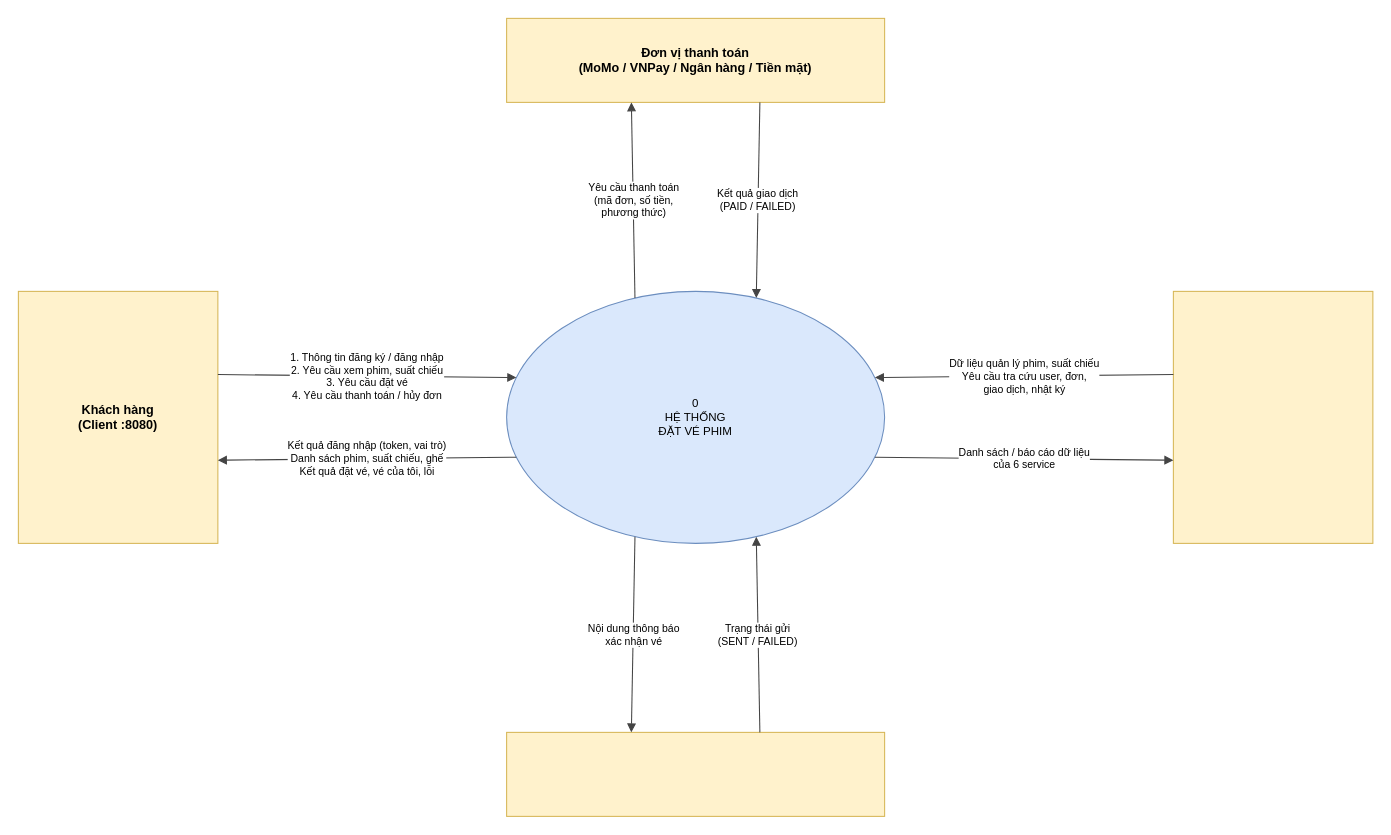
Some shapes in this 1391 by 835 pixel diagram are drawn without their labels. Each missing label, with the centre of its shape:
Kênh nhận thông báo (email / SMS giả lập): pixel 695 773
Quản trị viên (Admin :8081): pixel 1272 416
